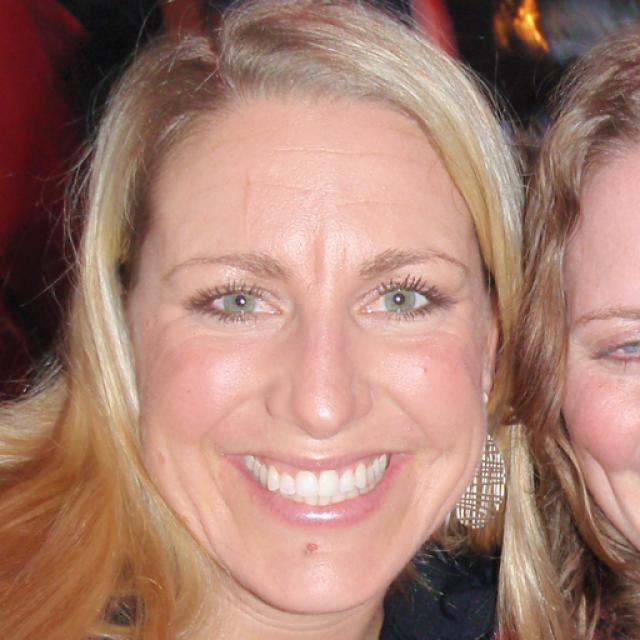Acne: (413, 358, 434, 382), (301, 541, 322, 557)
Wrinkle: (271, 145, 425, 163)
